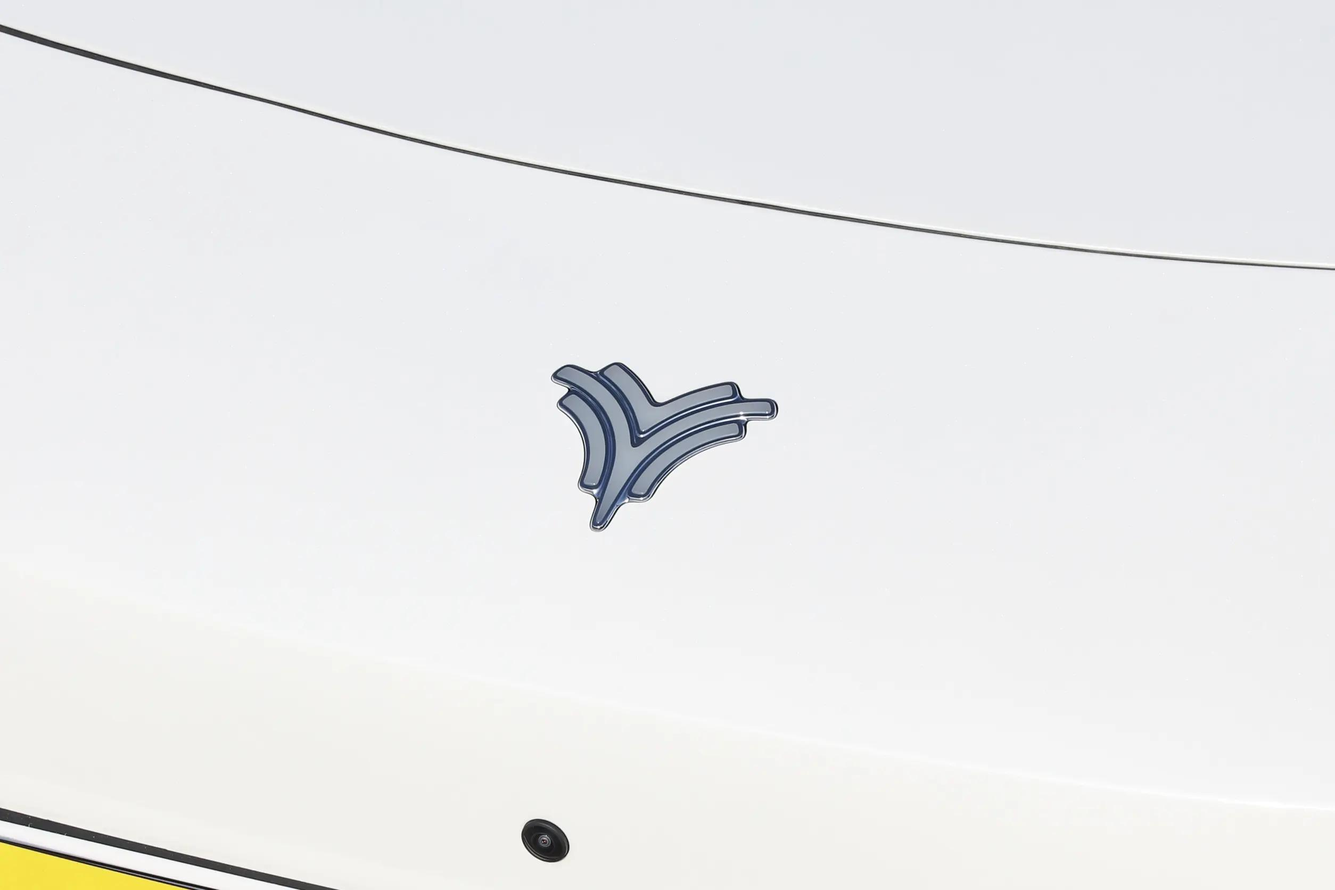NETA: (550, 362, 778, 534)
